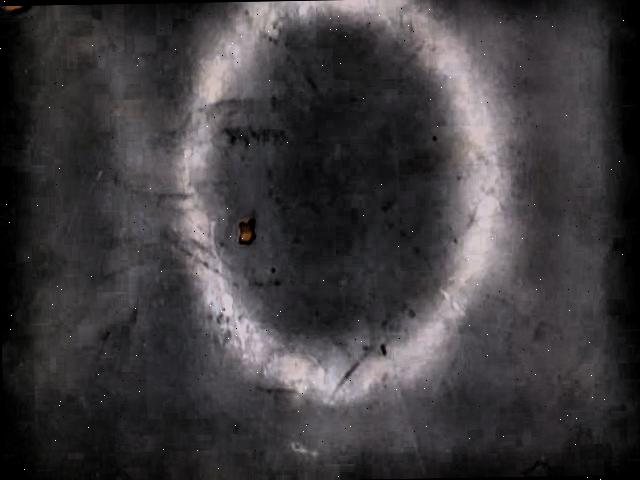Almennt: (236, 217, 256, 248)
